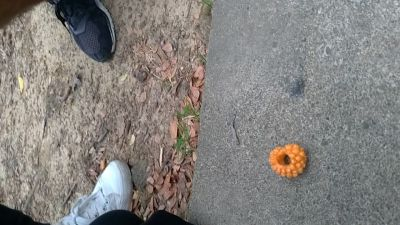eggs: (267, 142, 309, 178)
